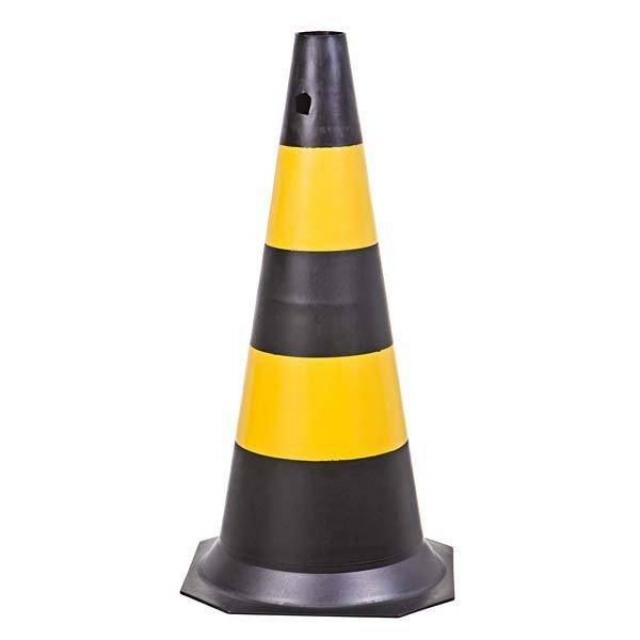cone: (190, 20, 486, 623)
